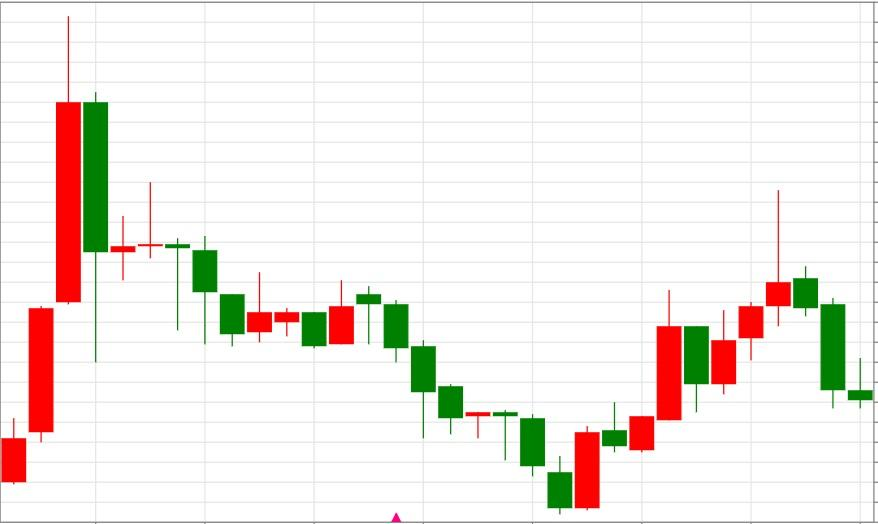bullish_engulfing_rise: (356, 286, 601, 515)
